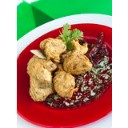bonda: (26, 56, 53, 102), (63, 43, 92, 73)
